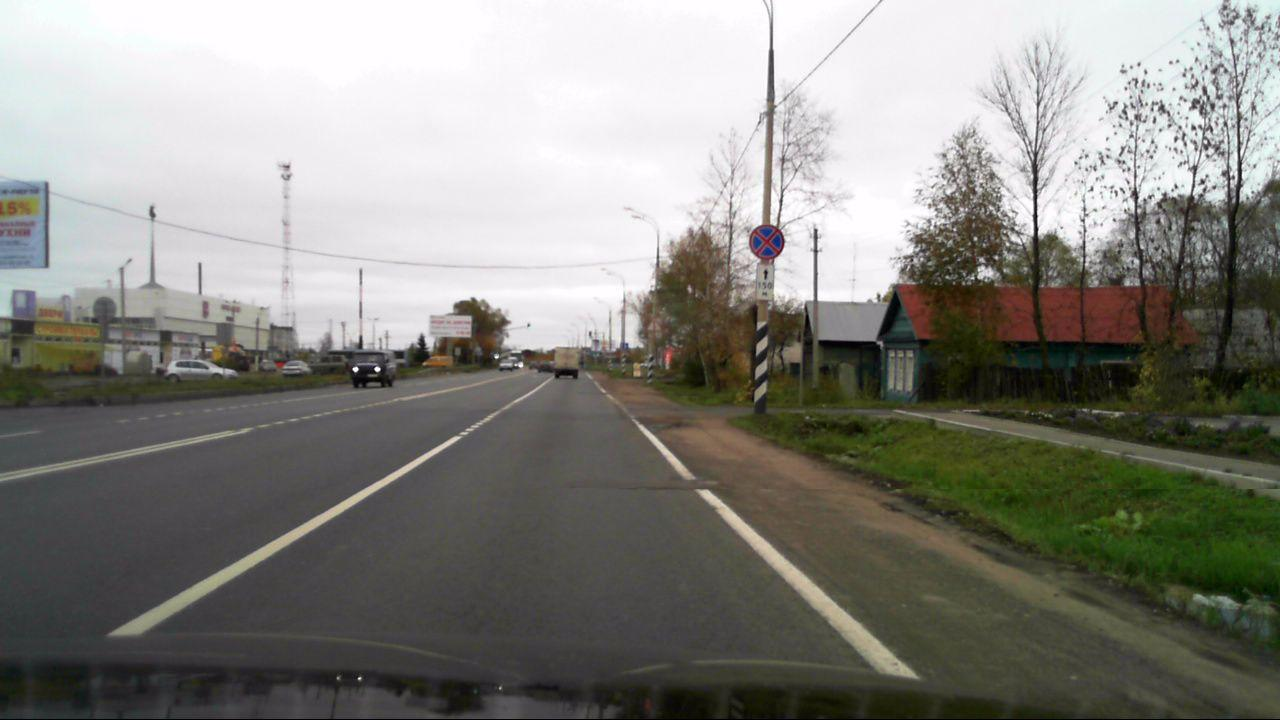3_27: (749, 224, 785, 261)
8_2_2: (755, 263, 775, 300)
